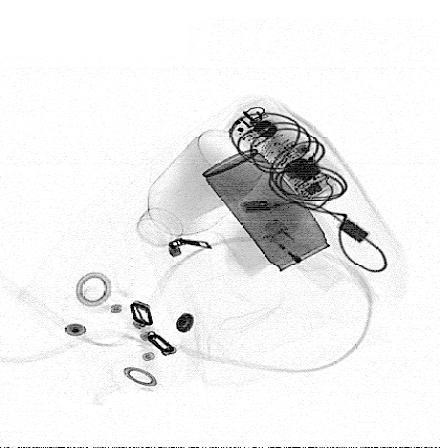Lighter: (258, 220, 348, 292)
